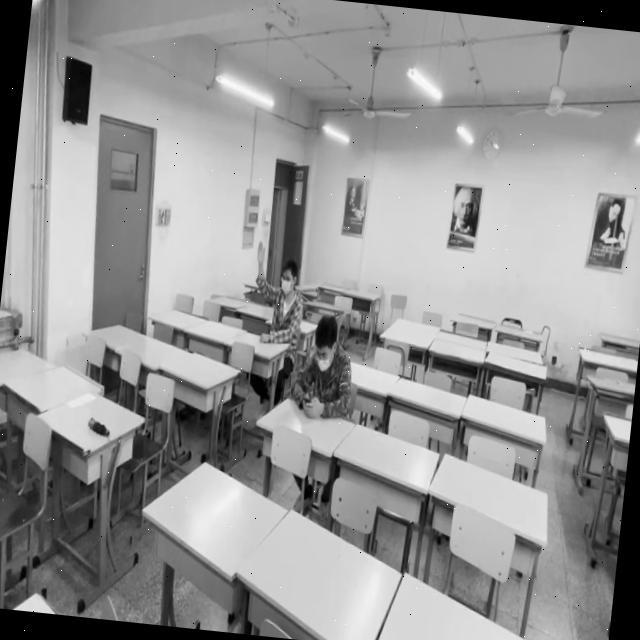phone: (293, 310, 358, 421)
study: (247, 237, 308, 344)
